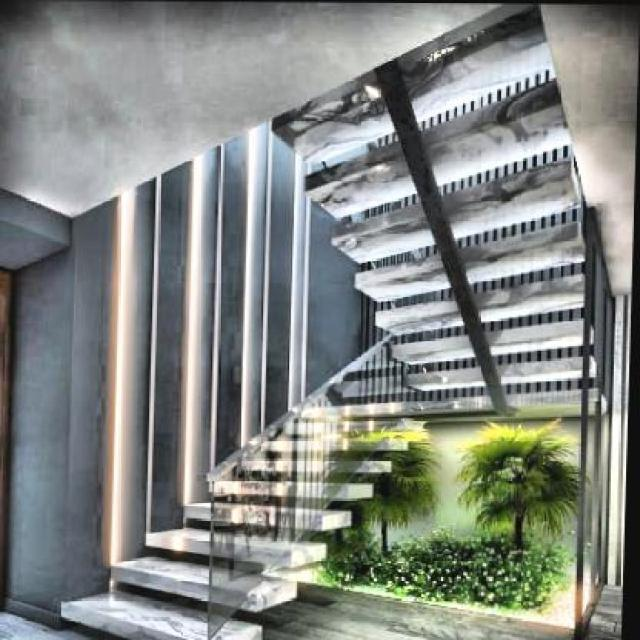stair: (70, 330, 376, 638)
